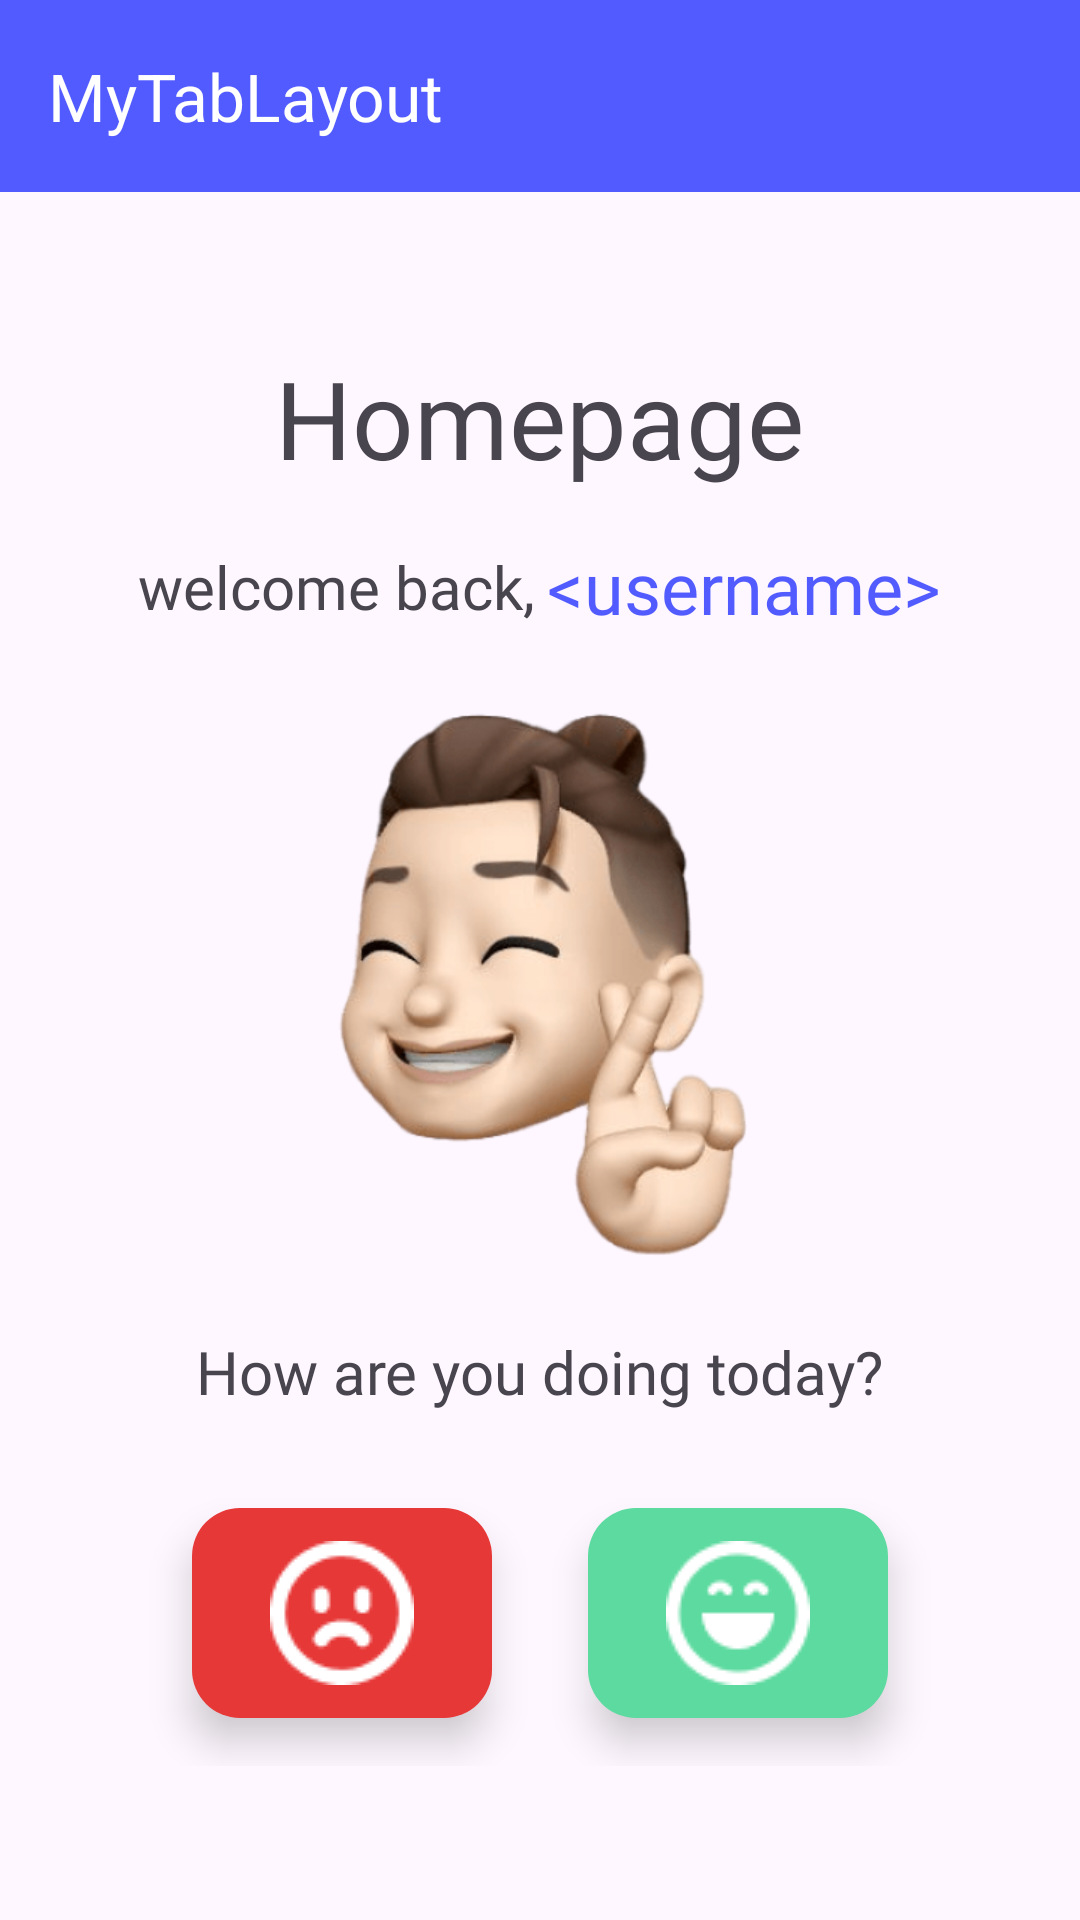

Where icons sit on this 1080px×1920px app screen, as region(x1, y1, x2, y2):
happy: region(588, 1508, 888, 1718)
sad: region(192, 1508, 492, 1718)
